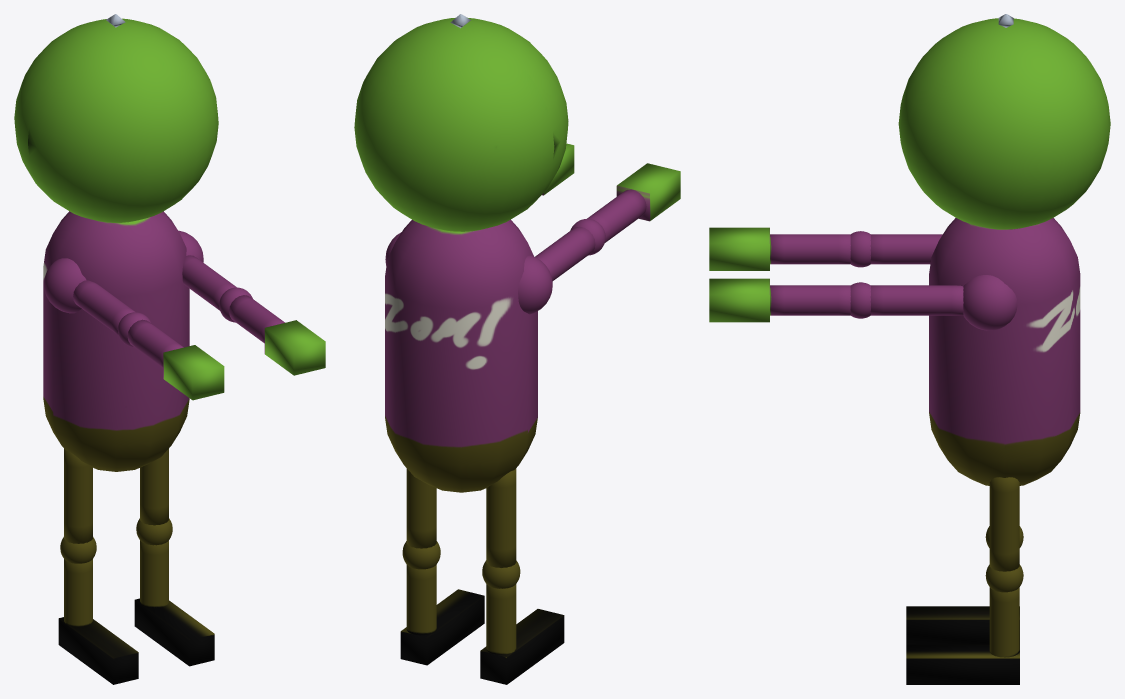
Rendered from Zombie Mini (Basic Animation OBJ).obj.
3 renders of one model, left to right at view 1: azimuth 30°, elevation 25°; view 2: azimuth 150°, elevation 25°; view 3: azimuth 270°, elevation 25°, orthographic. The views are drawn at different scales.
Visible parts, largest first — view 1: Mini_Zombie; view 2: Mini_Zombie; view 3: Mini_Zombie.
Part boxes in pixels (x1=…): Mini_Zombie: x1=14, y1=18, x2=325, y2=684; Mini_Zombie: x1=354, y1=17, x2=680, y2=684; Mini_Zombie: x1=709, y1=18, x2=1110, y2=684.
Bounding box in the file's own units: 14 × 46.98 × 26.5.
